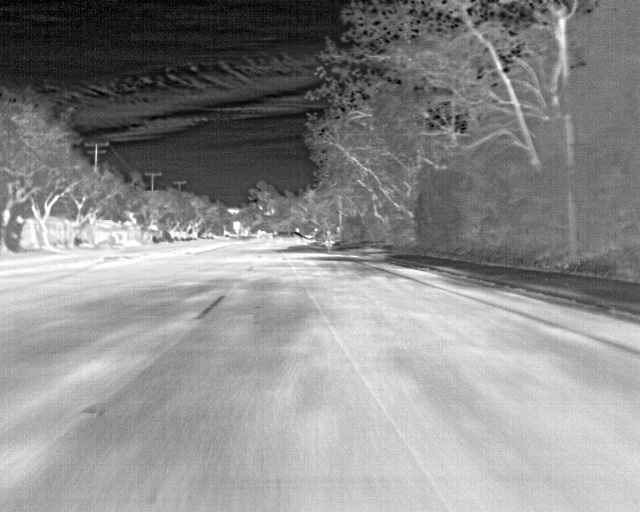people: (318, 224, 341, 261)
